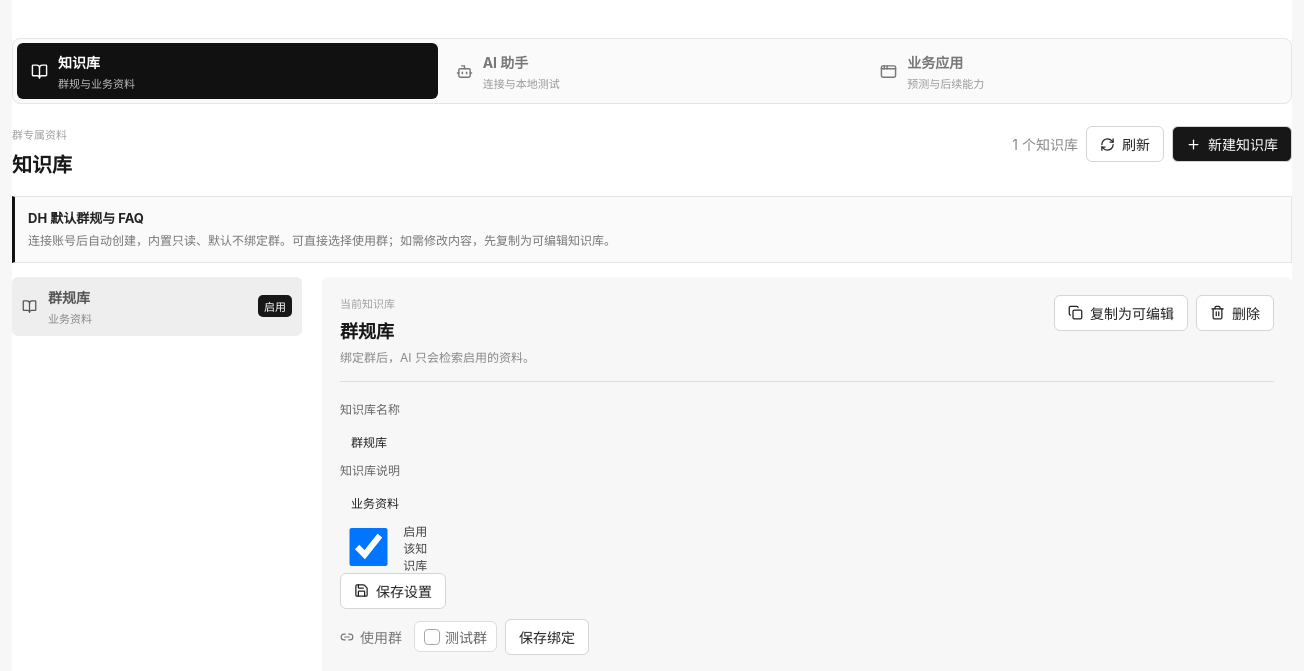
Test: production pages retain scoped cached data › keeps knowledge bases visible when a refresh goes offline
Click the button "刷新". click: {"x": 1125, "y": 144}
box: [1086, 126, 1164, 162]
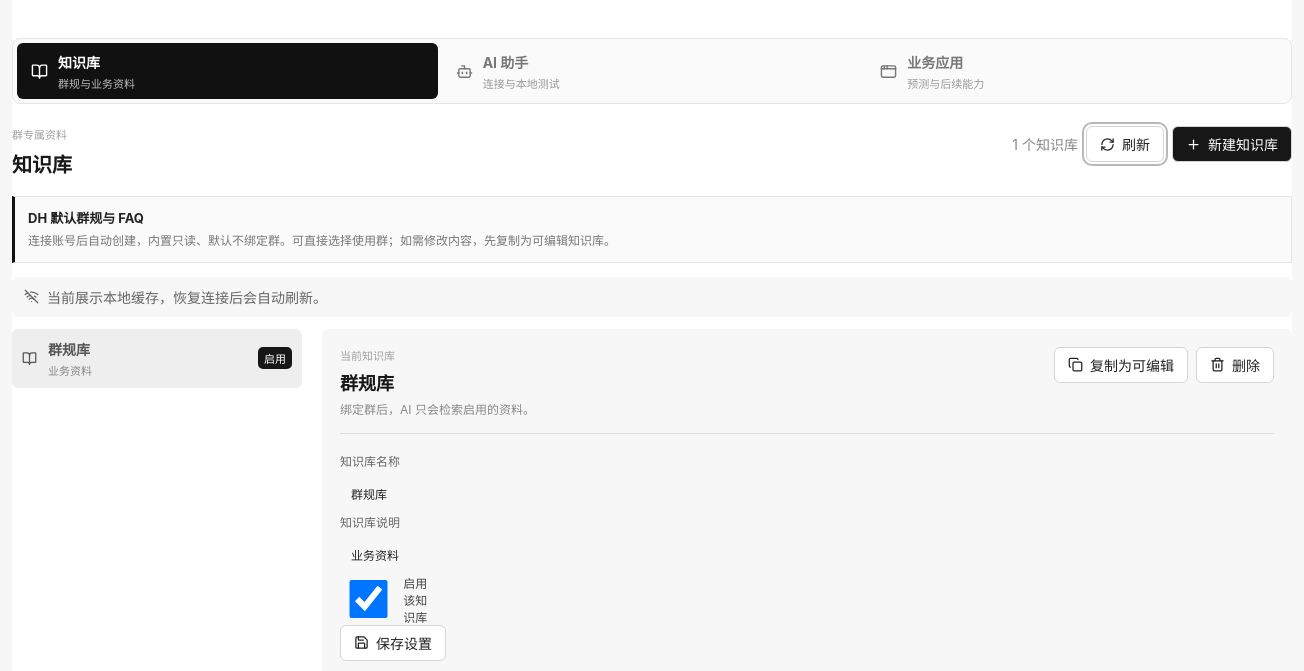
Expected: the text "群规库" is shown, [48, 341, 90, 358]
Expected: the text "当前展示本地缓存，恢复连接后会自动刷新。" is shown, [12, 277, 1292, 317]
